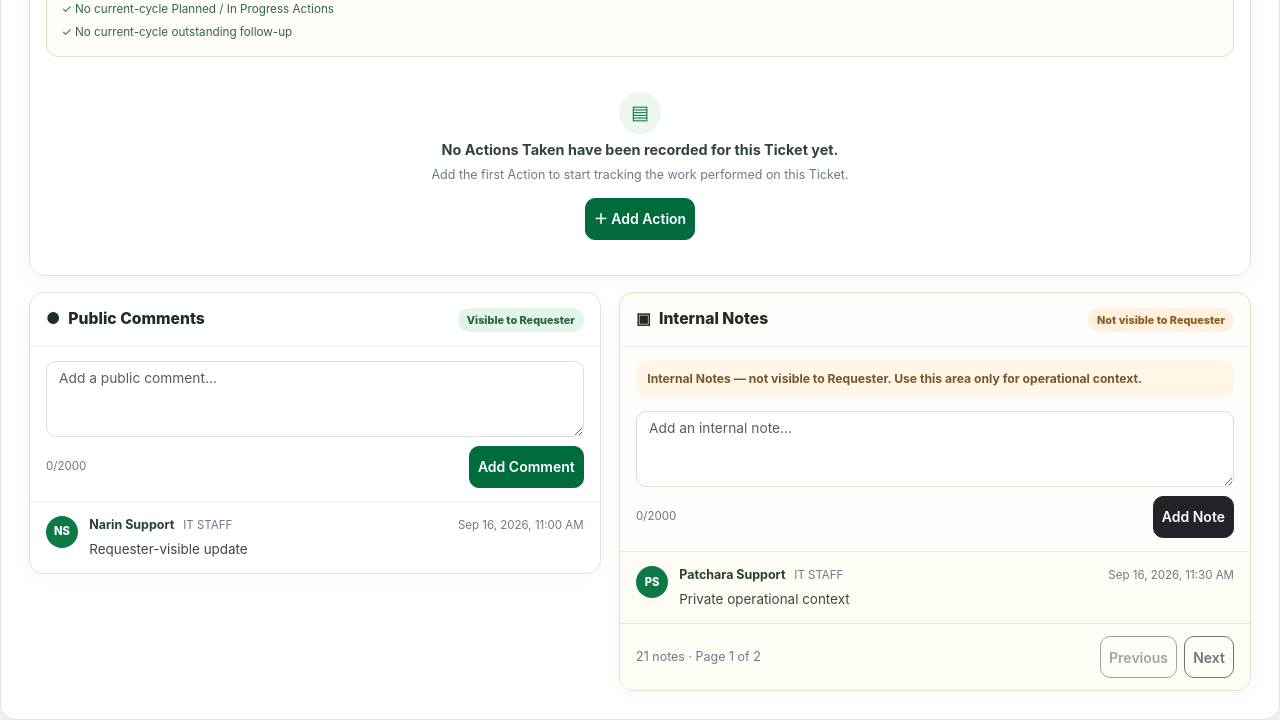
Scenario: Lab 3 IT Staff Ticket Detail › review regression: pages Internal Notes instead of loading an unbounded list
(page scrolled)
Expected: the text "Private operational context" is shown, [679,591,850,607]
Expected: the text "21 notes · Page 1 of 2" is shown, [636,648,761,667]
Click the button with aria-label "Next Internal Notes page" at (1209, 658), box [1184,636,1234,678]
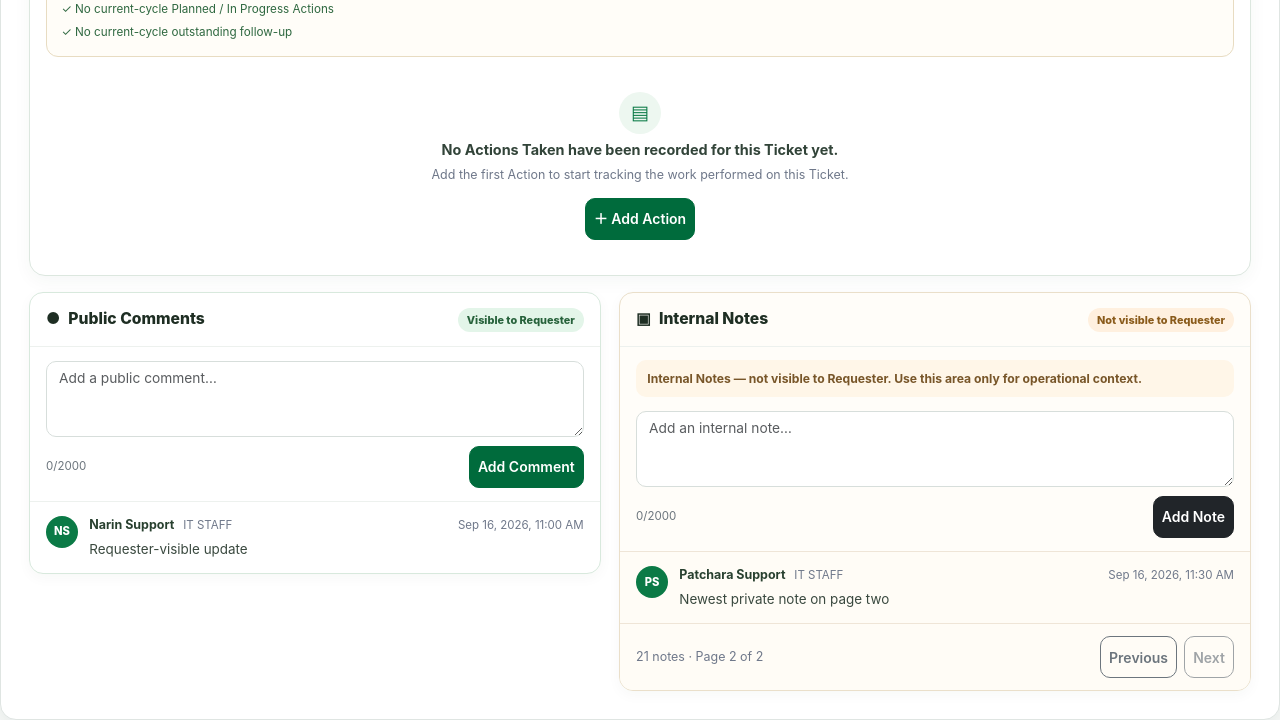
Expected: the text "Newest private note on page two" is shown, [679,591,889,607]
Expected: the text "Private operational context" is gone
